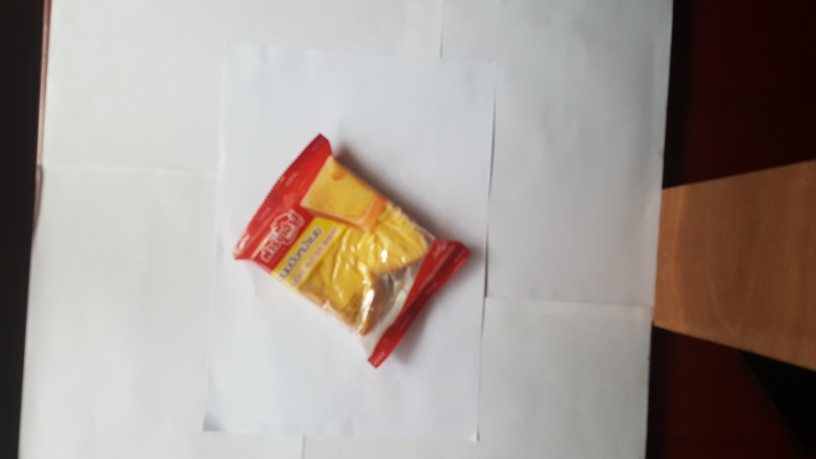farmhouse-bread-butter: (220, 129, 477, 377)
